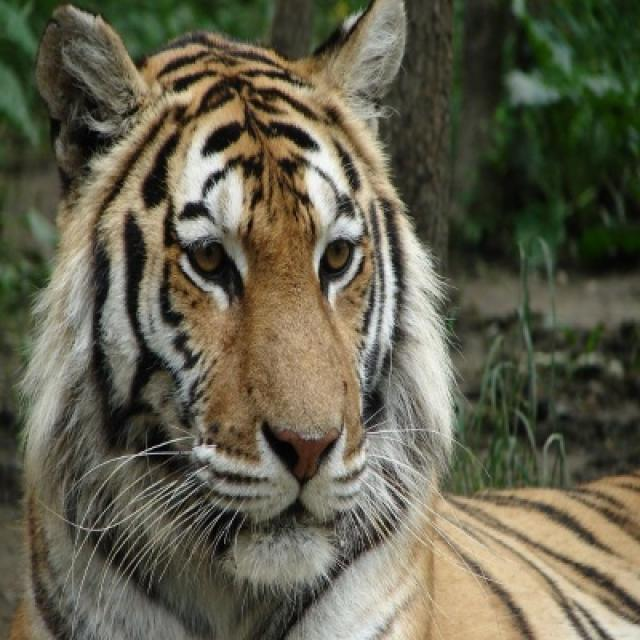Tiger: (5, 0, 638, 638)
